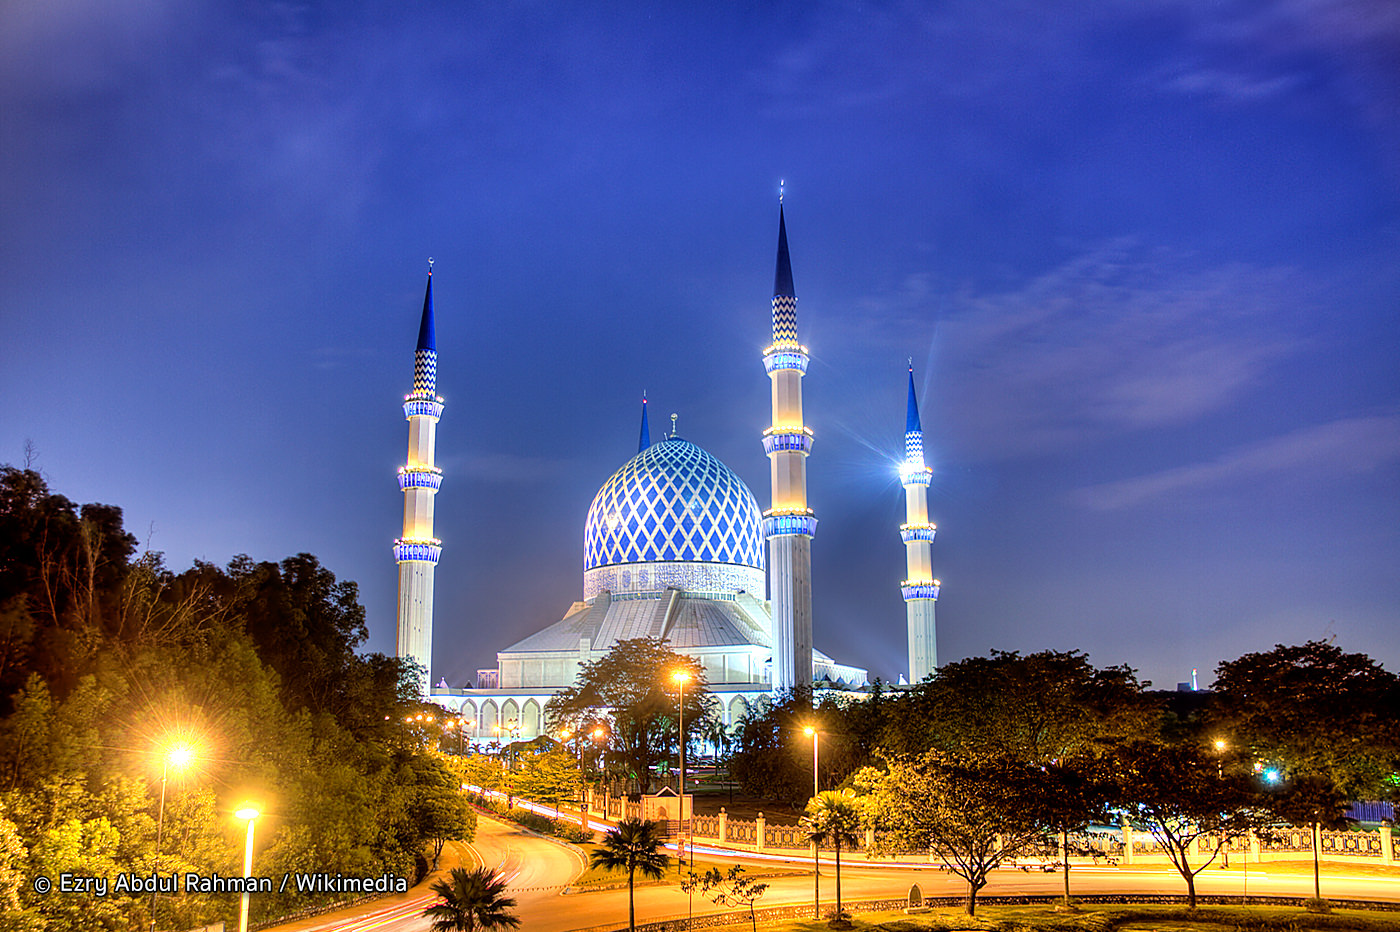Mosque: (355, 212, 941, 744)
